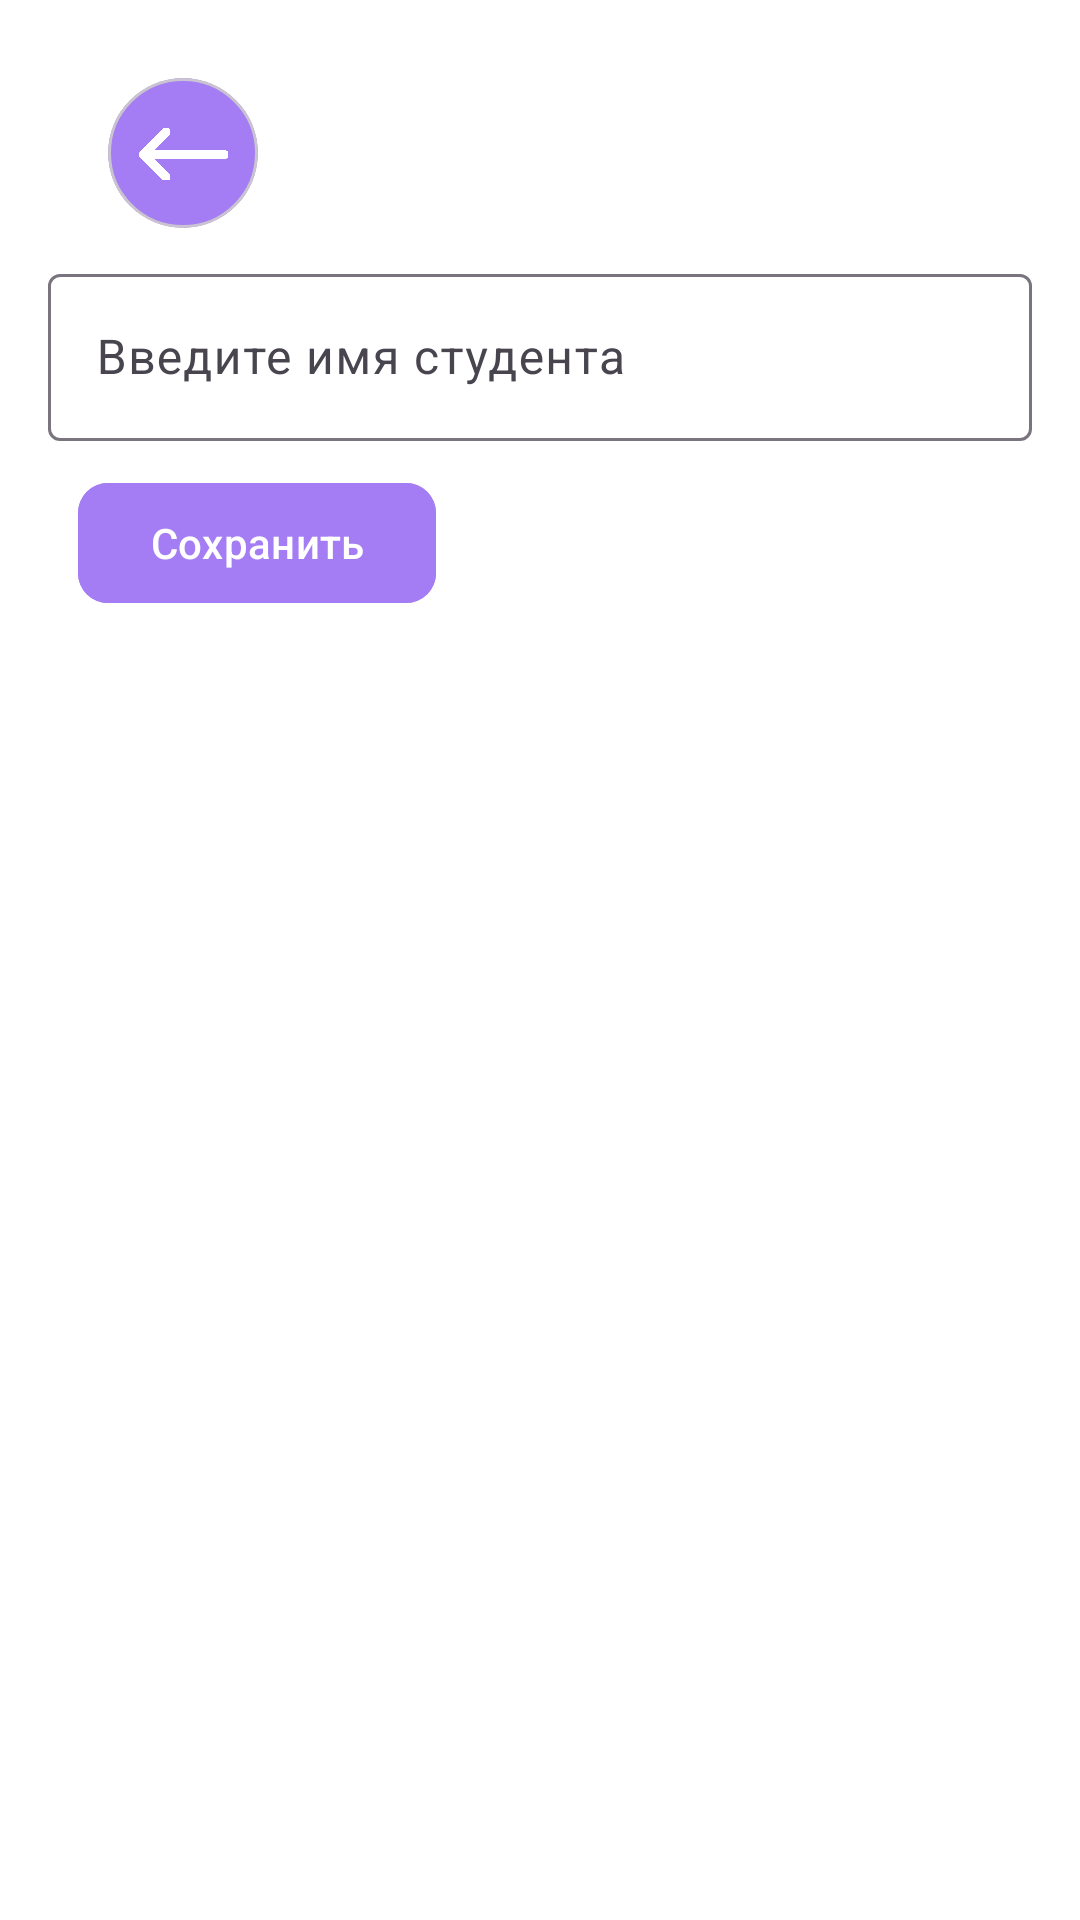

Icon bounding boxes for this 1080 × 1920 phone screenshot, format (x1, y1, x2, y2):
arrow back: (139, 128, 228, 180)
